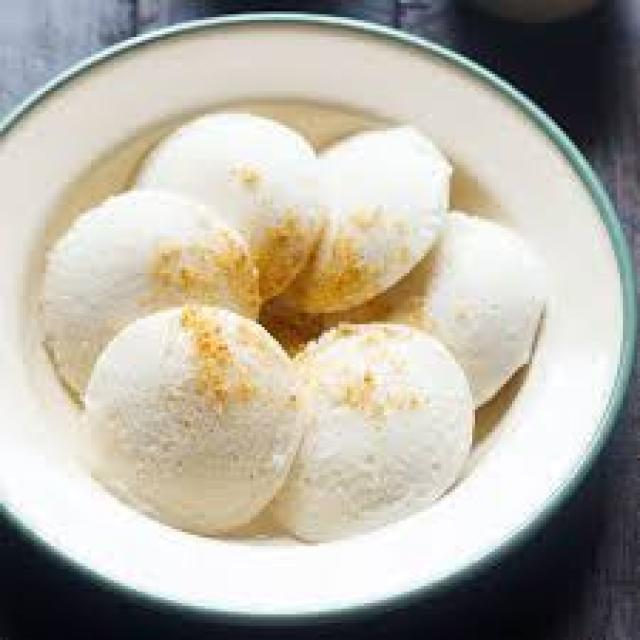Wet Waste: (77, 296, 310, 535), (34, 185, 268, 404), (262, 316, 472, 540), (333, 205, 543, 395), (125, 108, 322, 307), (264, 116, 466, 302)
